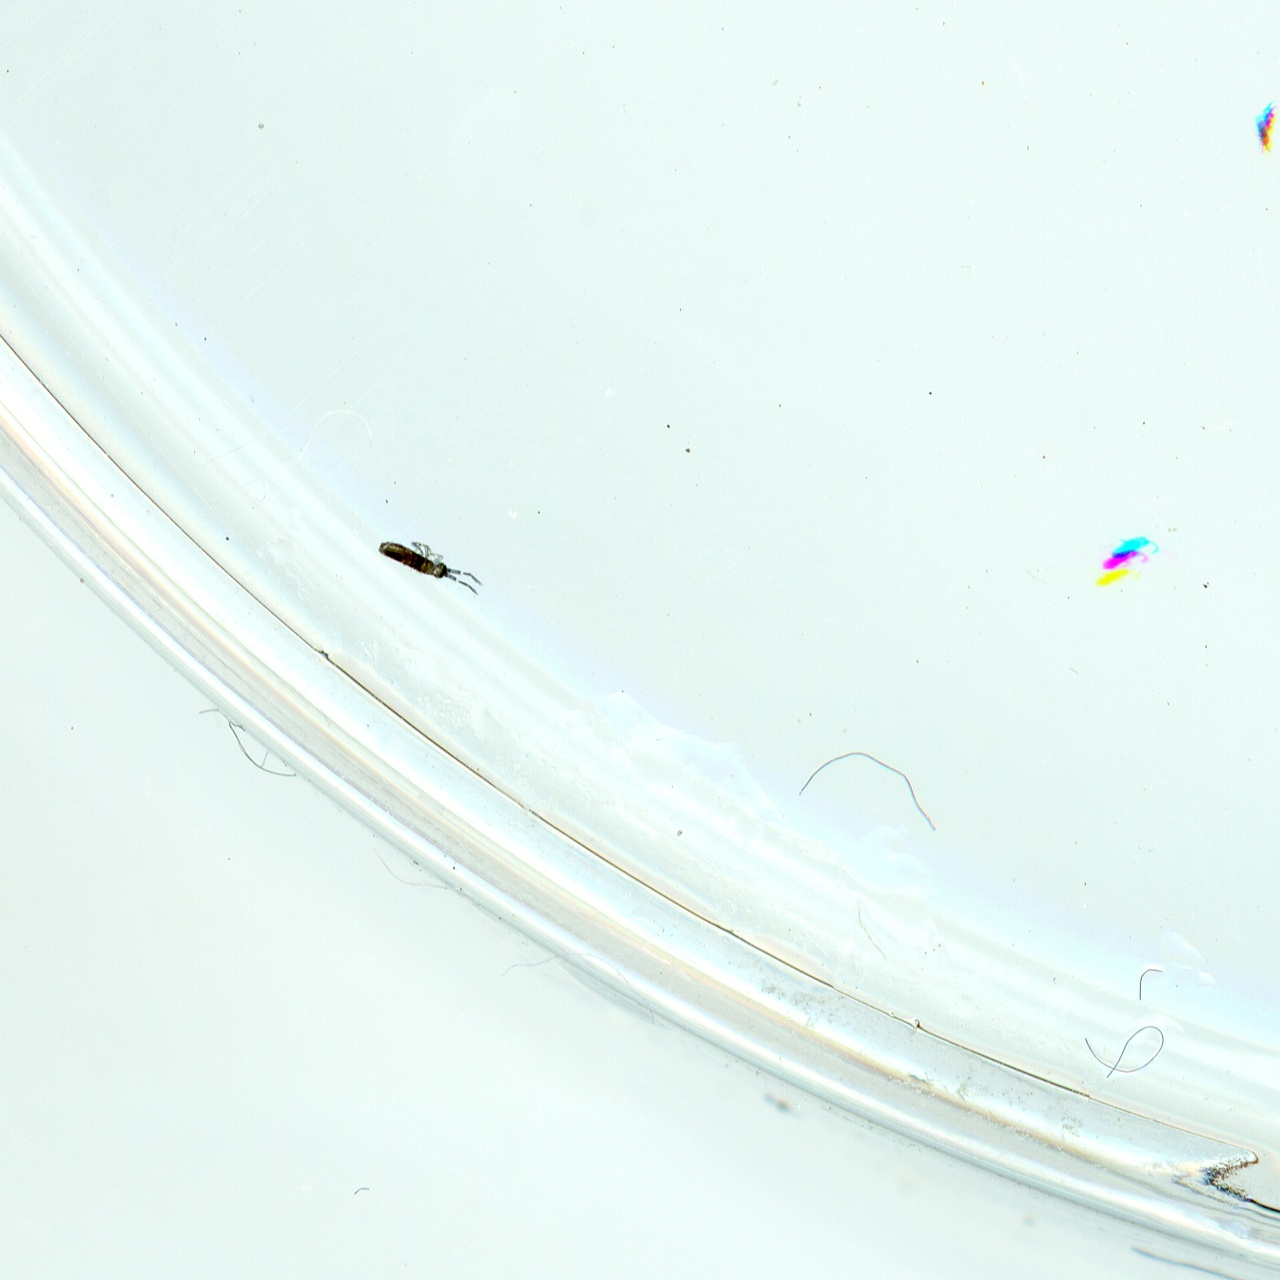arthropod: (361, 516, 496, 609), (1089, 531, 1166, 596), (1250, 96, 1280, 158)
